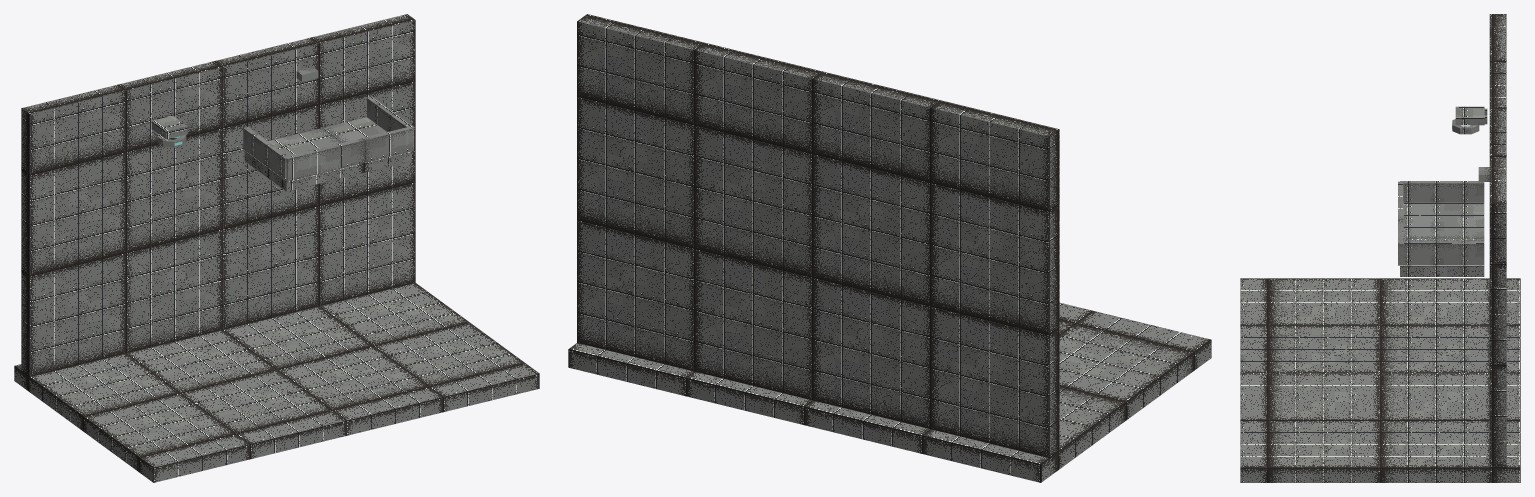
Rendered from gate_grapple.glb.
3 views of the same model, side by side, from view 1: azimuth 30°, elevation 25°; view 2: azimuth 150°, elevation 25°; view 3: azimuth 270°, elevation 25° (orthographic). The views are drawn at different scales.
Parts seen in each view (by area): view 1: gate_grapple; view 2: gate_grapple; view 3: gate_grapple.
Part boxes in pixels (left/top/right/bottom): gate_grapple: left=14, top=14, right=539, bottom=482; gate_grapple: left=568, top=14, right=1211, bottom=482; gate_grapple: left=1240, top=14, right=1520, bottom=482.
Bounding box in the file's own units: 8 × 5.5 × 5.
Materials: 3 (2 with a texture image).
